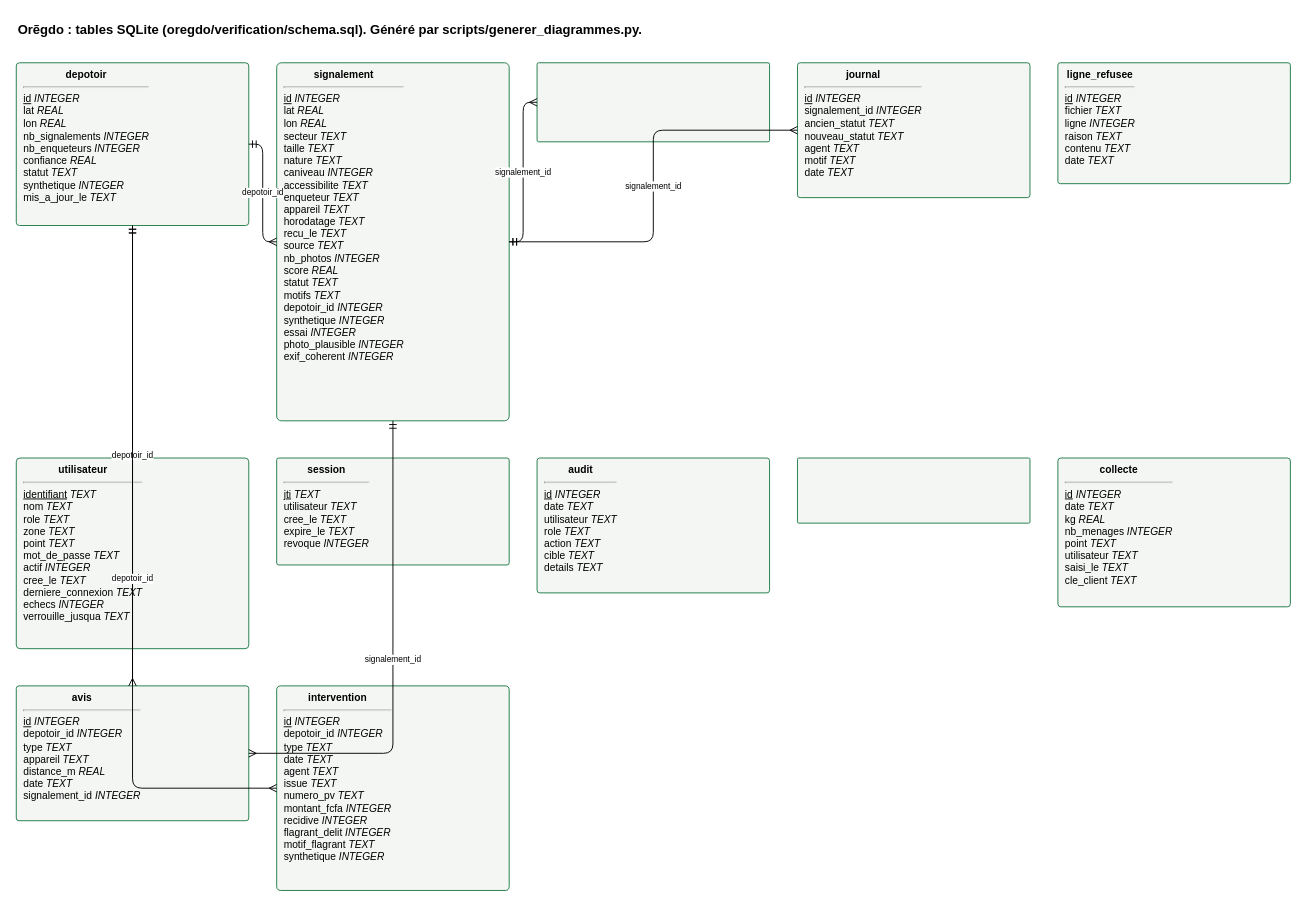
This 1307x907 diagram has some shape labels left out. The centre of each missing label's shape, as x and y in pixels:
"notification_lue utilisateur TEXT vu_le TEXT" belongs at [913,490].
"photo id INTEGER signalement_id INTEGER empreinte TEXT" belongs at [653,102].
